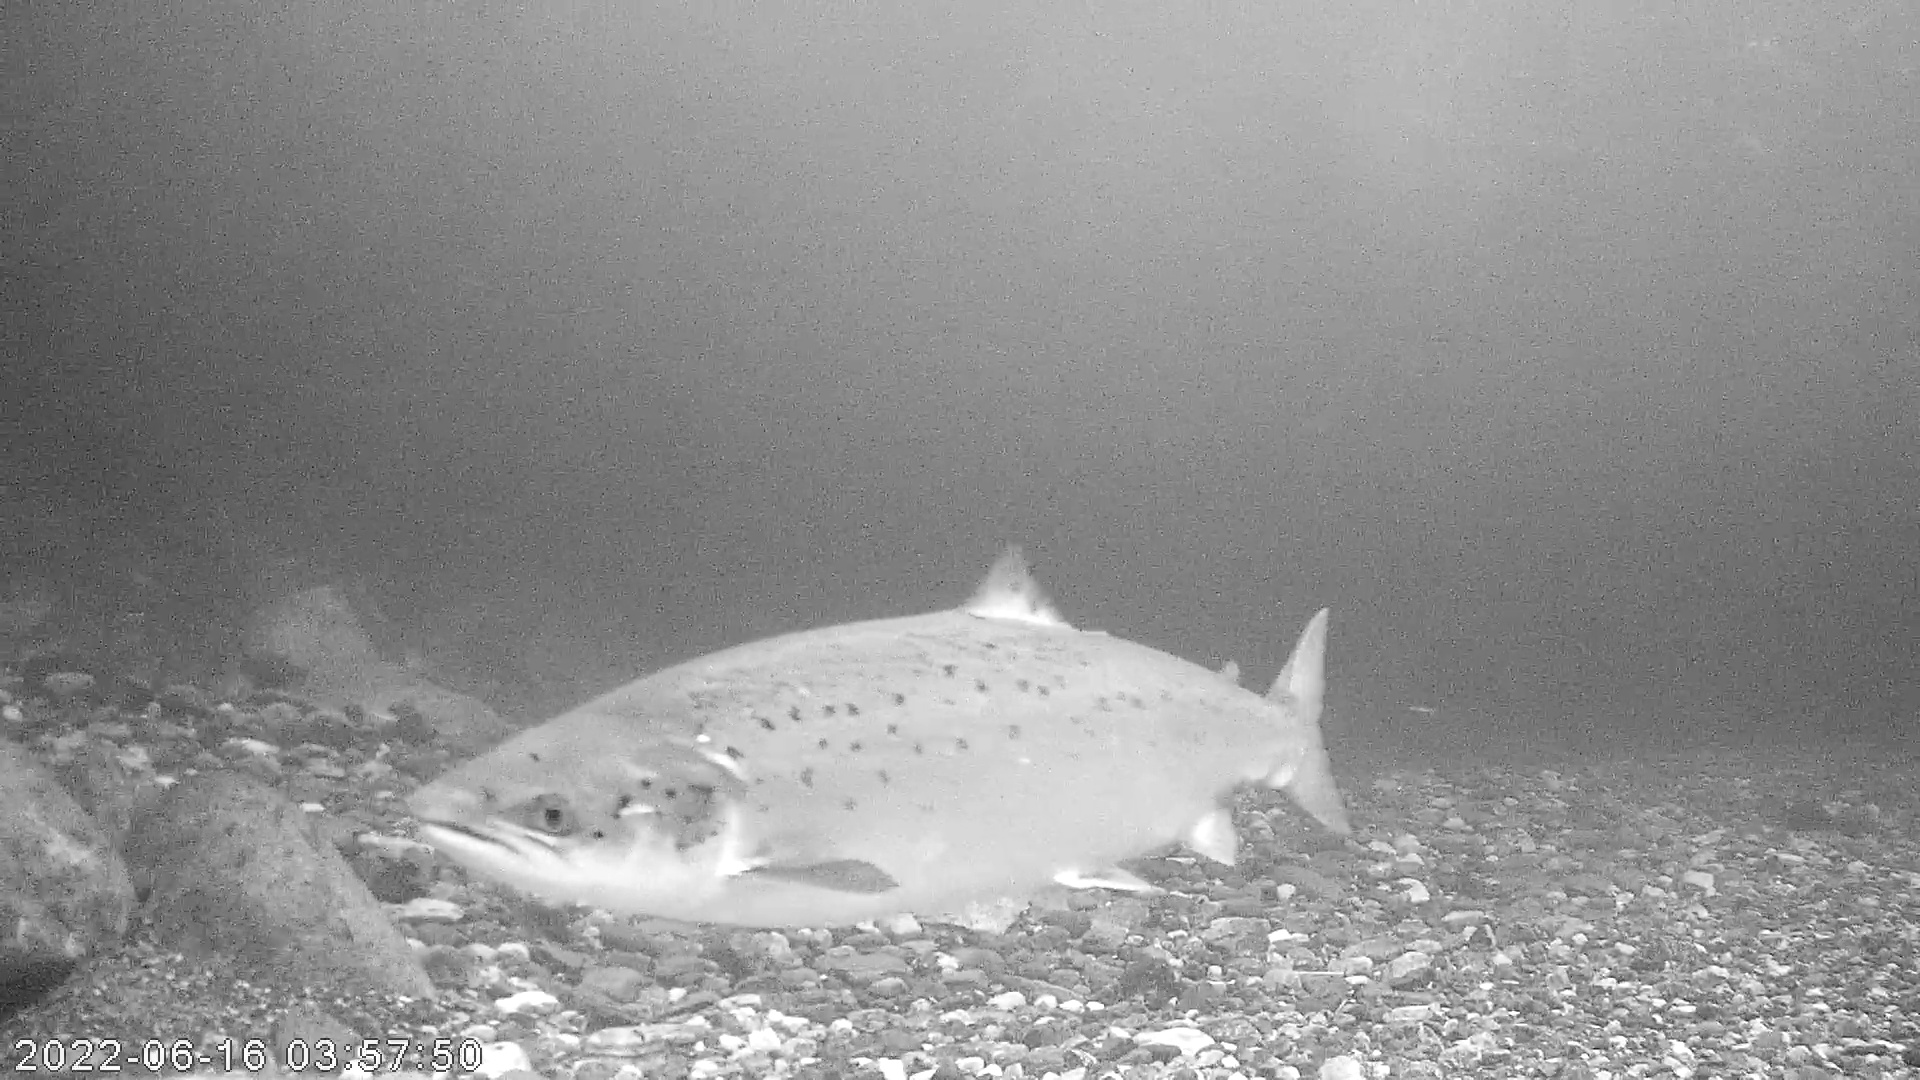salmon: (401, 529, 1357, 934)
